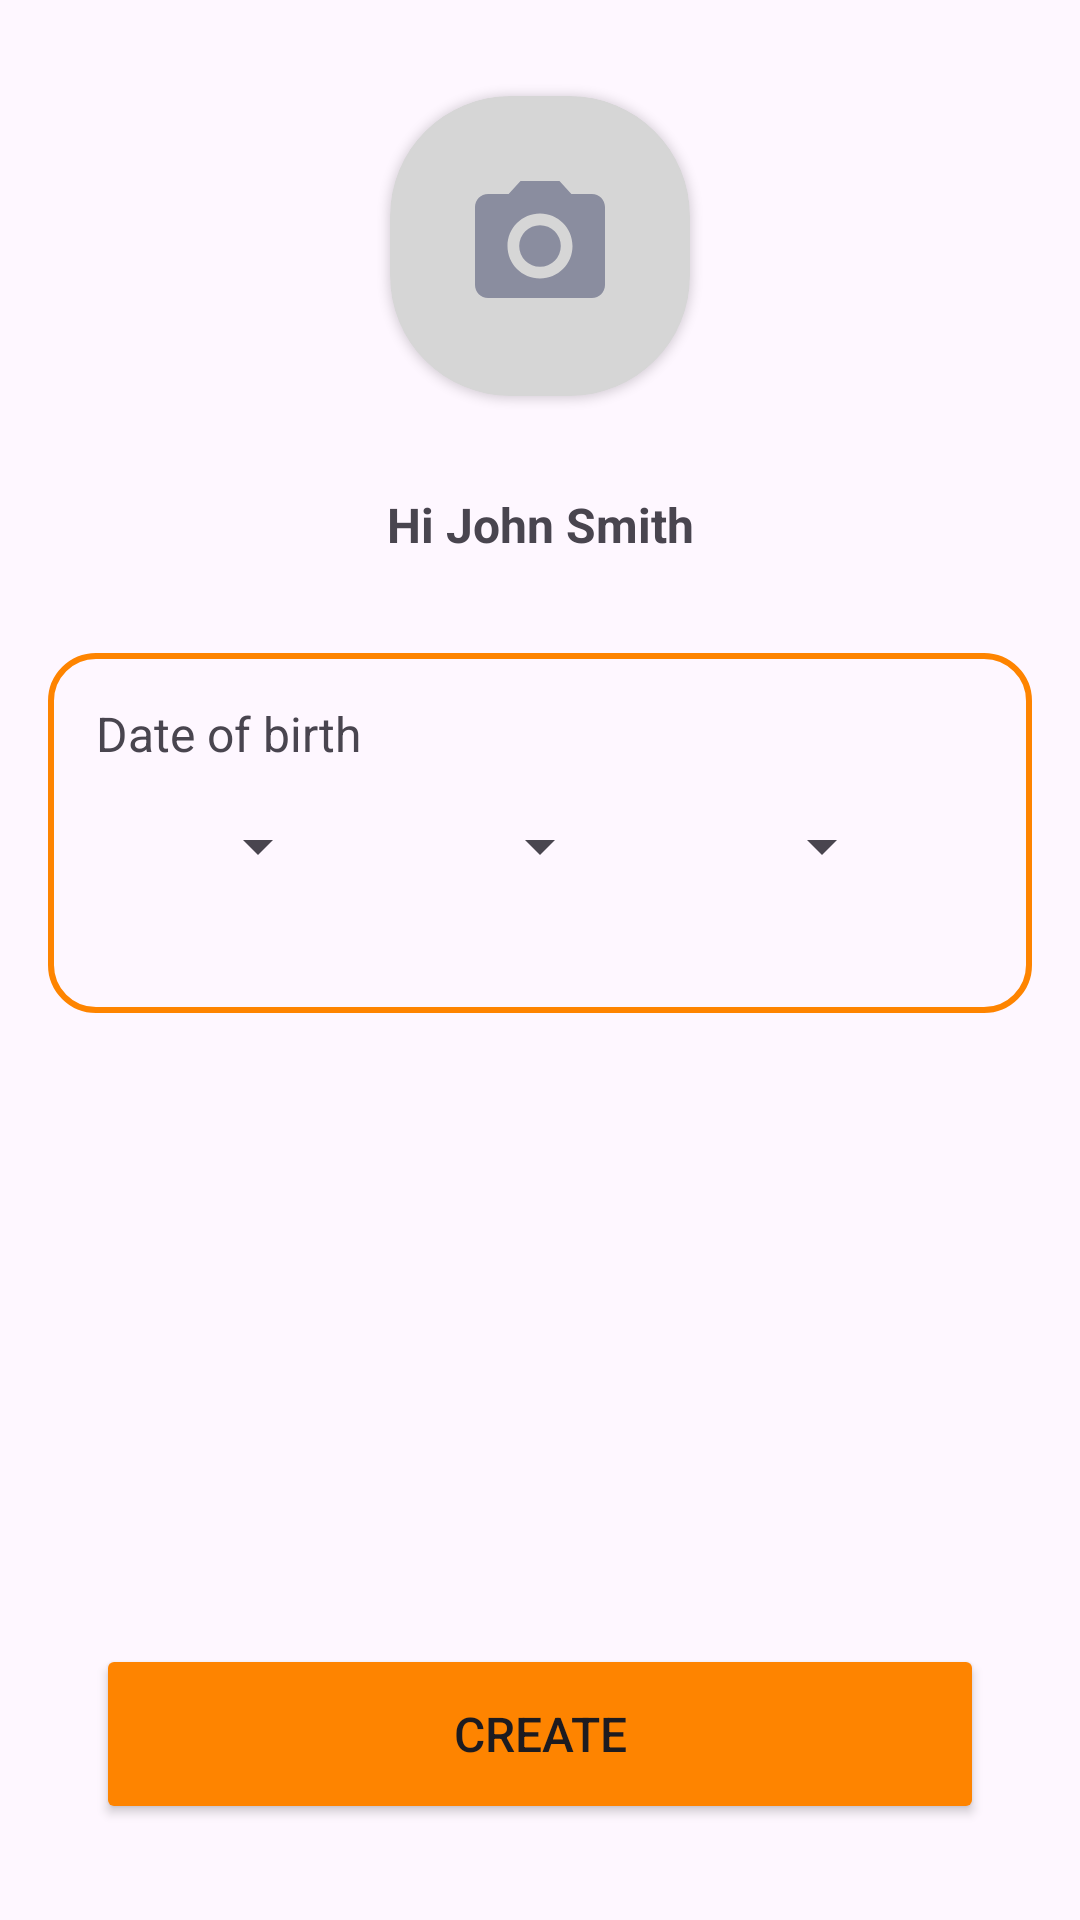

Icon bounding boxes for this 1080px x 1920px phone screenshot, format {"left": x1, "top": y1, "right": x2, "bottom": y2}:
photo camera: {"left": 390, "top": 96, "right": 690, "bottom": 396}
